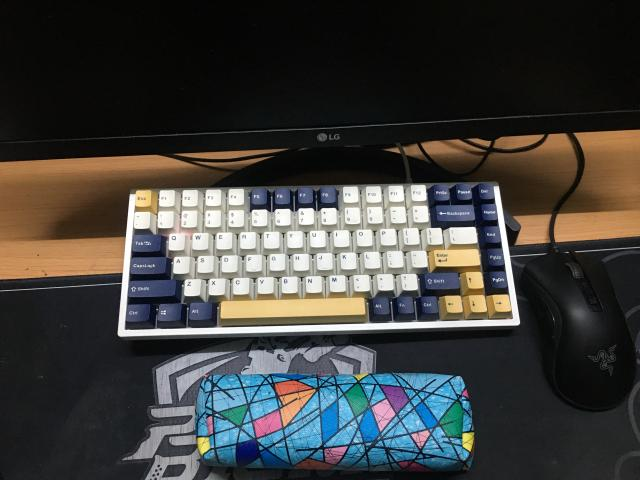Mouse: (521, 250, 636, 411)
